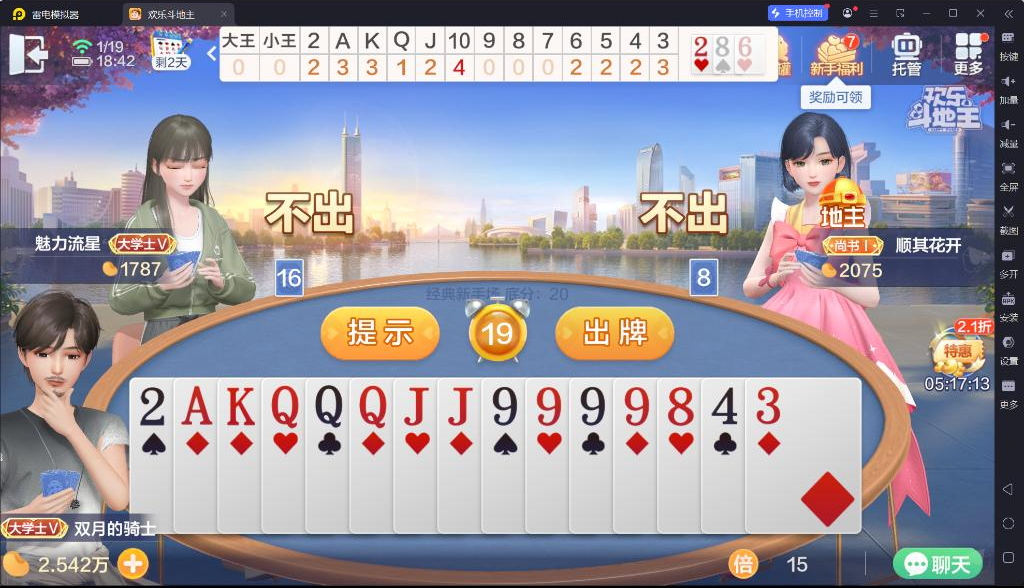A: (177, 384, 214, 427)
J: (445, 384, 475, 427), (402, 381, 430, 427)
K: (223, 382, 257, 428)
Q: (268, 382, 302, 430), (312, 381, 346, 429), (358, 381, 388, 430)
eight: (666, 384, 696, 427), (714, 35, 730, 58)
four: (710, 386, 740, 426)
nine: (575, 385, 607, 427), (621, 384, 652, 427), (532, 384, 562, 427), (491, 385, 519, 427)
six: (737, 35, 753, 58)
three: (754, 385, 782, 426)
two: (138, 384, 168, 427), (693, 36, 709, 57)
